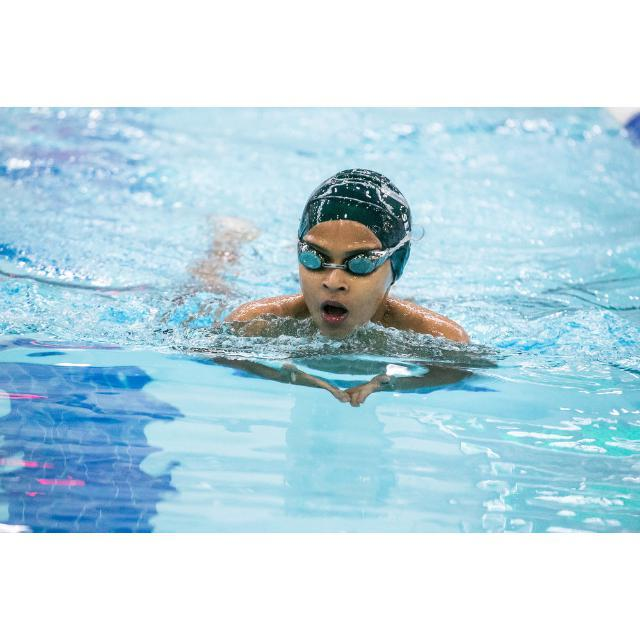human: (205, 173, 487, 408)
